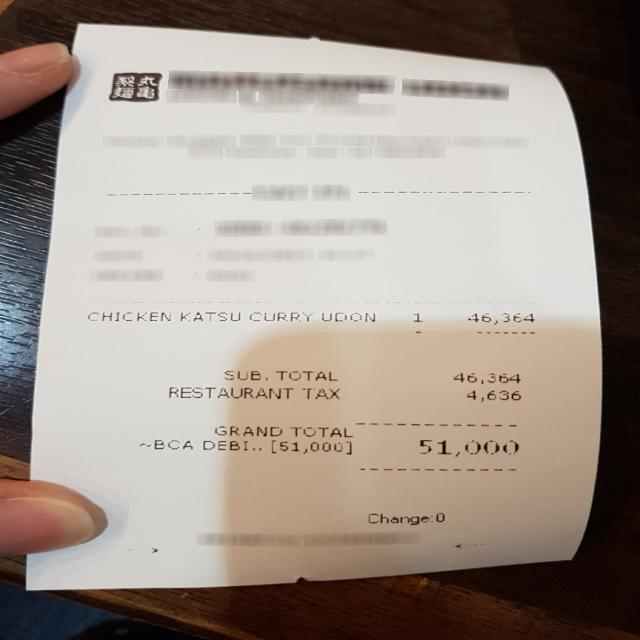kertas: (23, 22, 622, 624)
